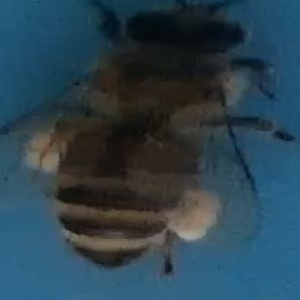bee: (12, 1, 295, 276)
